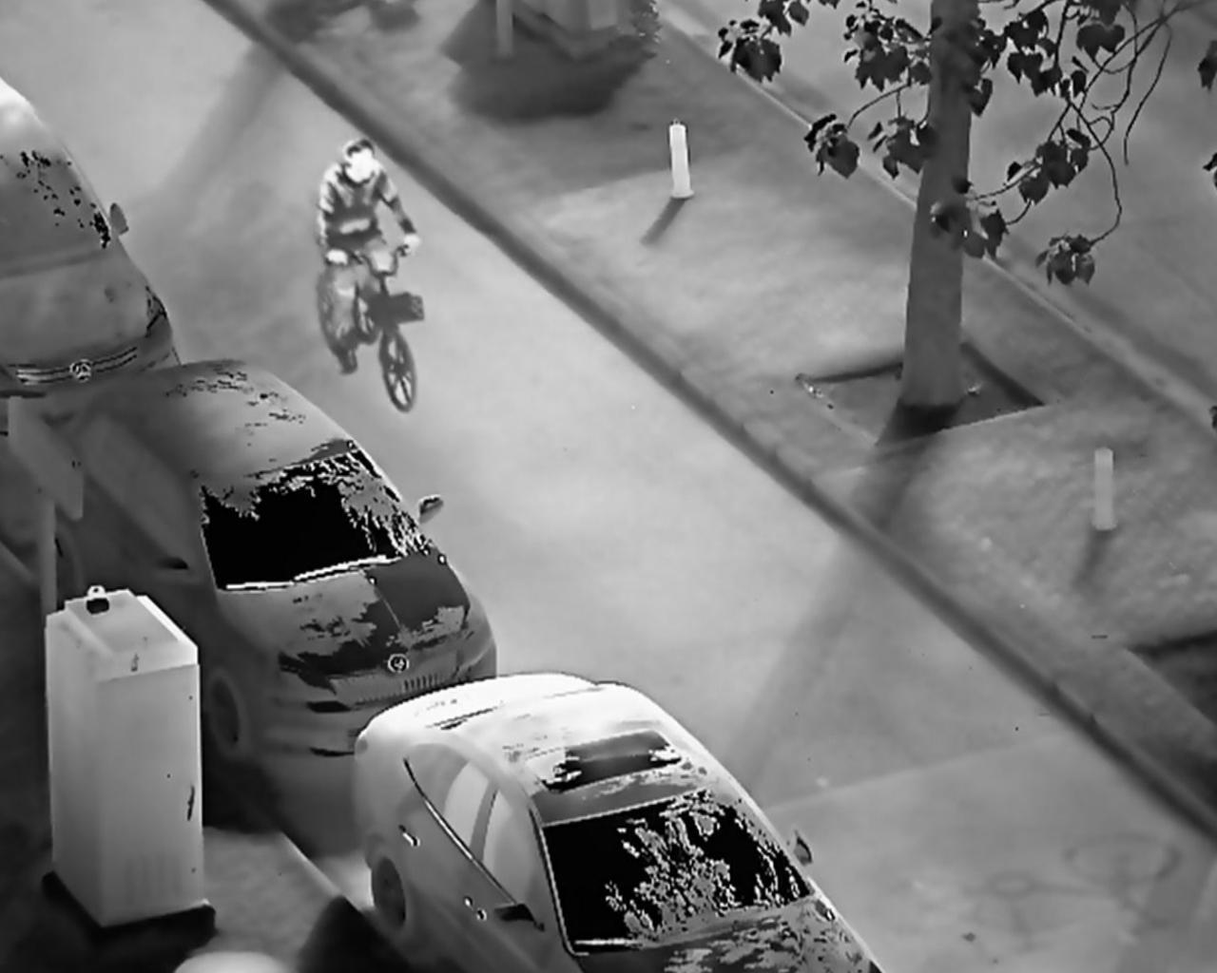person: (312, 134, 423, 378)
